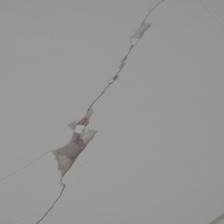Medium: (30, 47, 138, 202)
